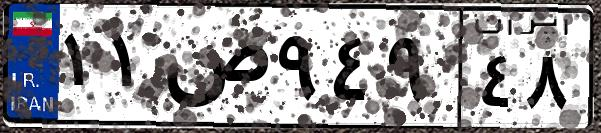1: (57, 26, 110, 100), (110, 28, 158, 98)
4: (330, 28, 385, 110), (475, 38, 525, 113)
8: (525, 38, 570, 115)
9: (270, 28, 330, 110), (385, 28, 445, 110)
ص: (158, 20, 270, 120)
